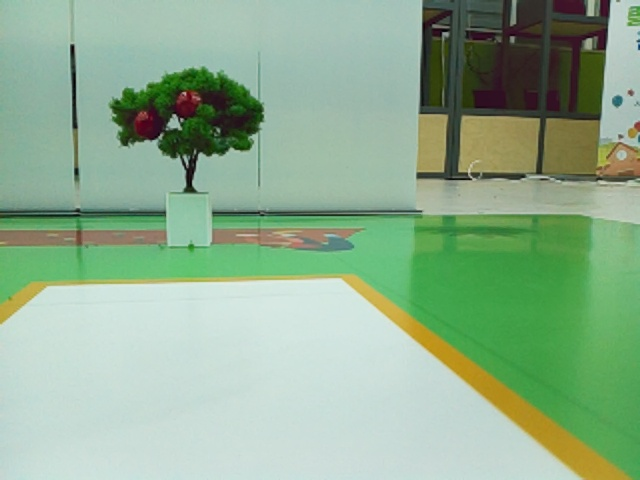apple: (176, 91, 200, 115), (134, 111, 153, 134)
